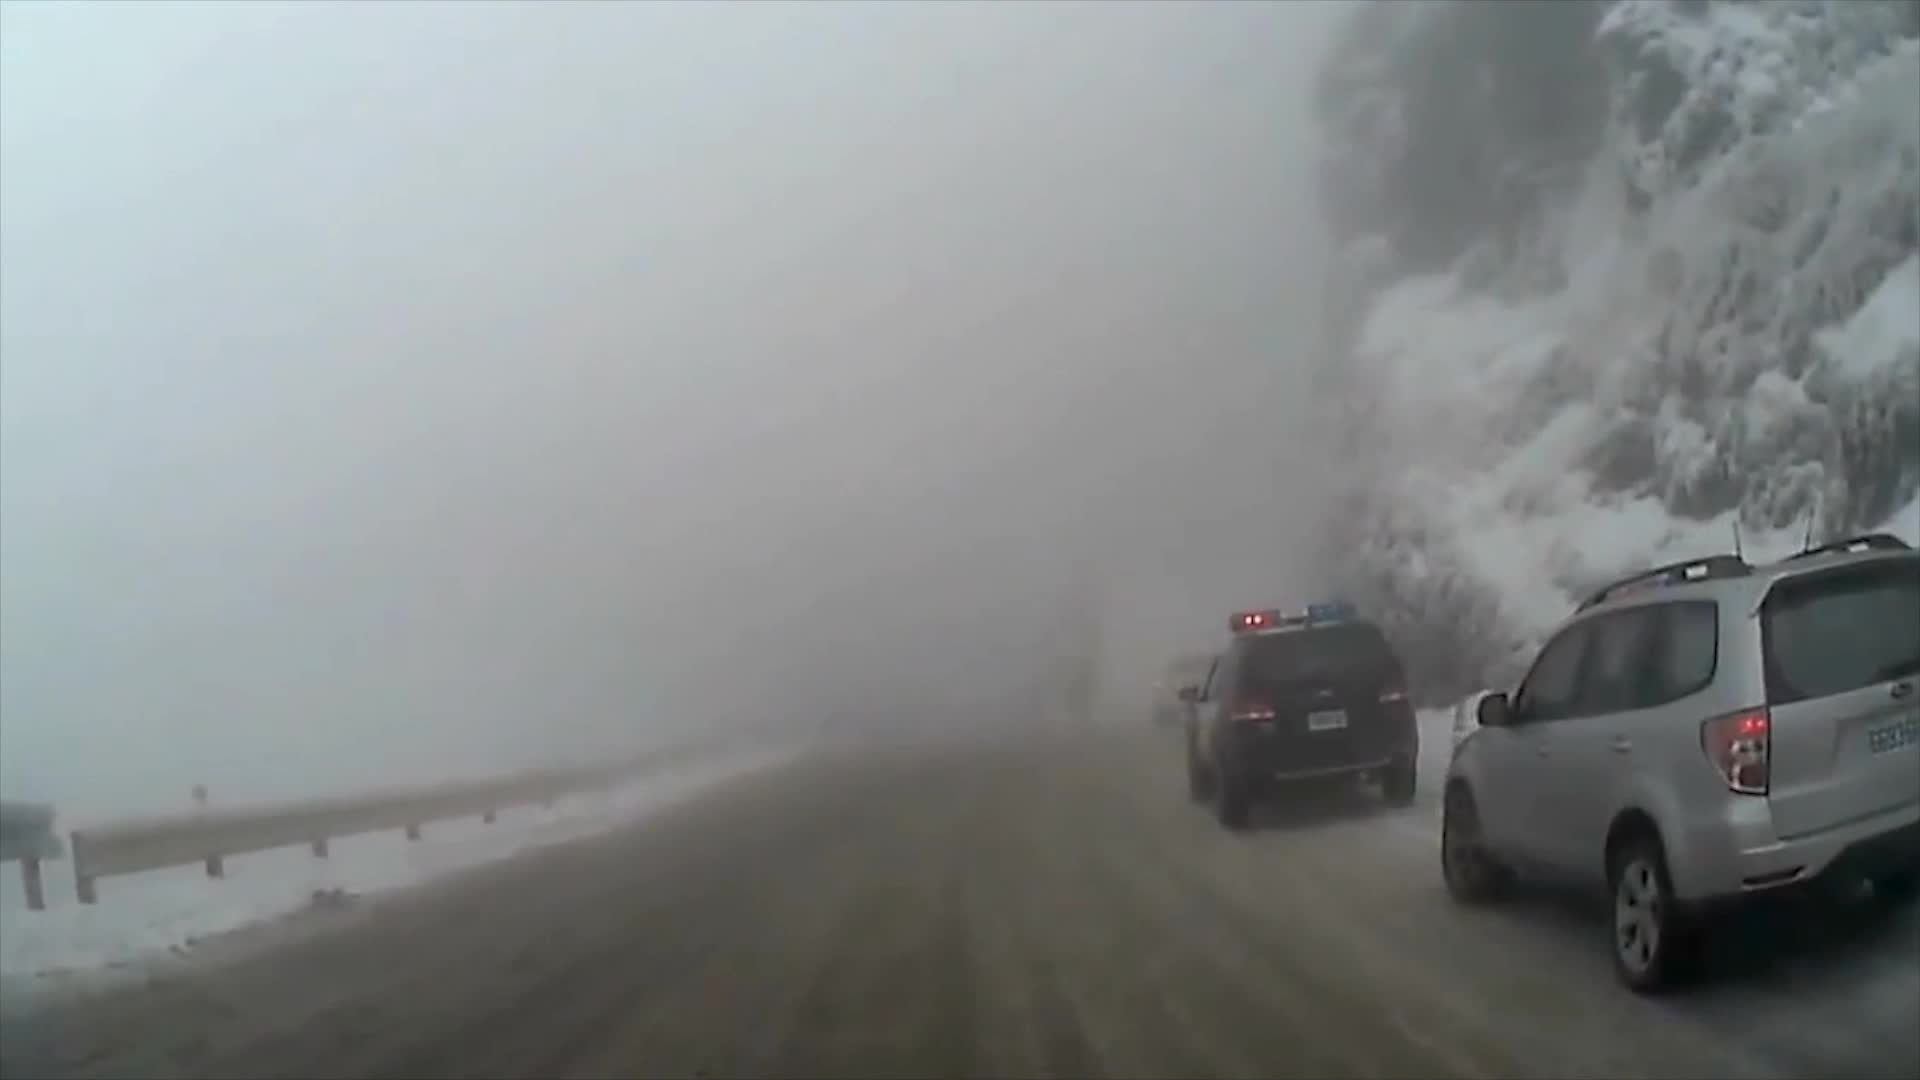vehicle: (1437, 527, 1920, 993), (1175, 595, 1416, 828)
